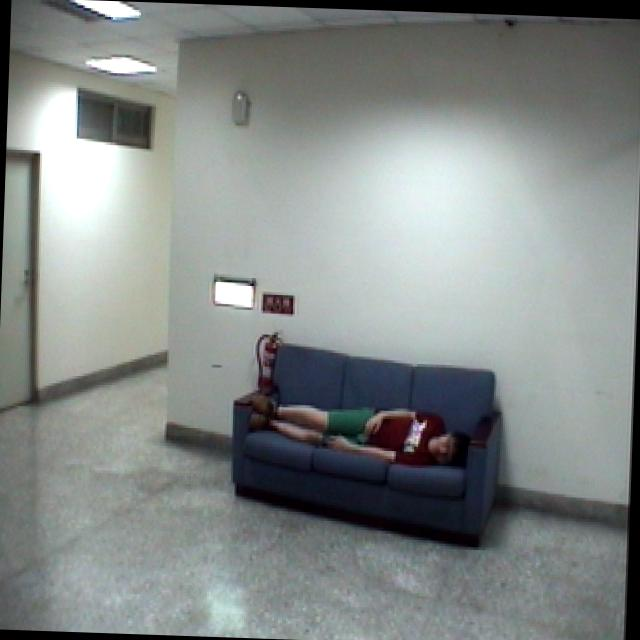lie: (242, 378, 470, 472)
